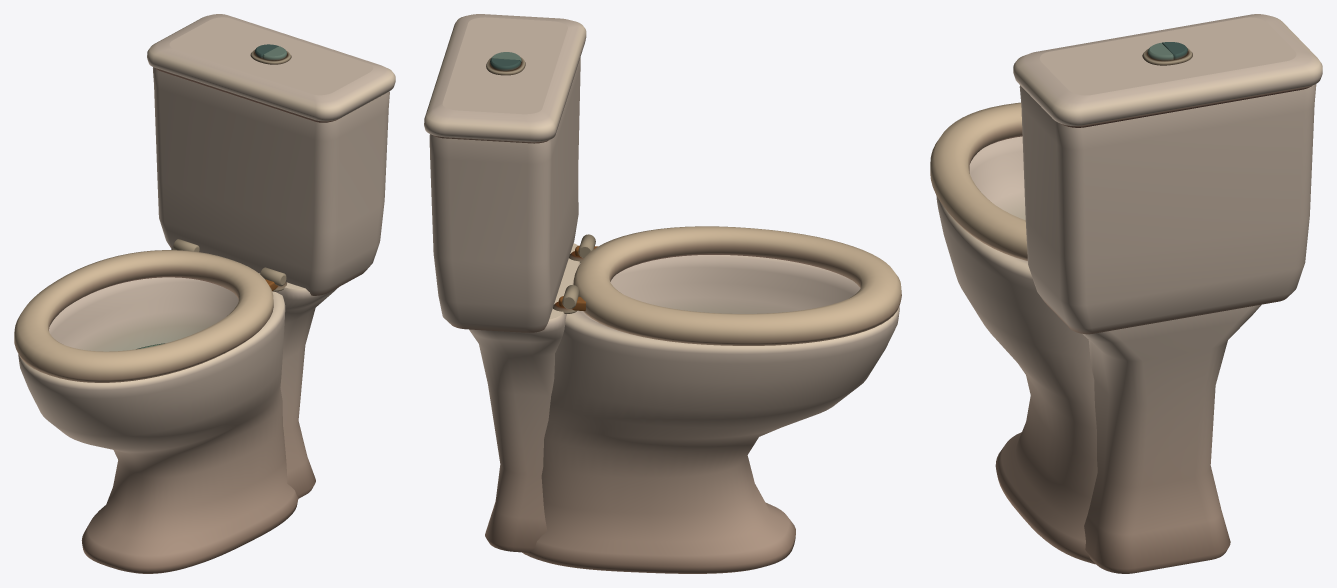
File: SM_BunkerToilet.fbx
3 views of the same model, side by side, from view 1: azimuth 30°, elevation 25°; view 2: azimuth 150°, elevation 25°; view 3: azimuth 270°, elevation 25° (orthographic). The views are drawn at different scales.
Visible parts, largest first — view 1: SM_BunkerToilet; view 2: SM_BunkerToilet; view 3: SM_BunkerToilet.
Boxes of the visible parts, x1,y1,x2,y2 form: SM_BunkerToilet: (14, 14, 395, 573); SM_BunkerToilet: (424, 14, 901, 573); SM_BunkerToilet: (930, 14, 1322, 573).
Bounding box in the file's own units: 71.21 × 52.63 × 77.25.
